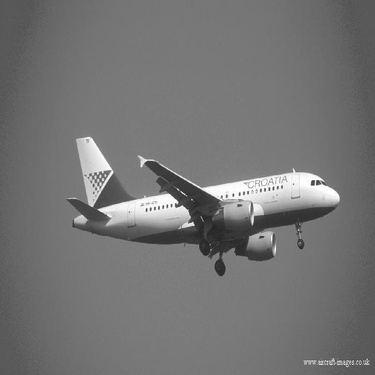airplane: (53, 117, 348, 294)
